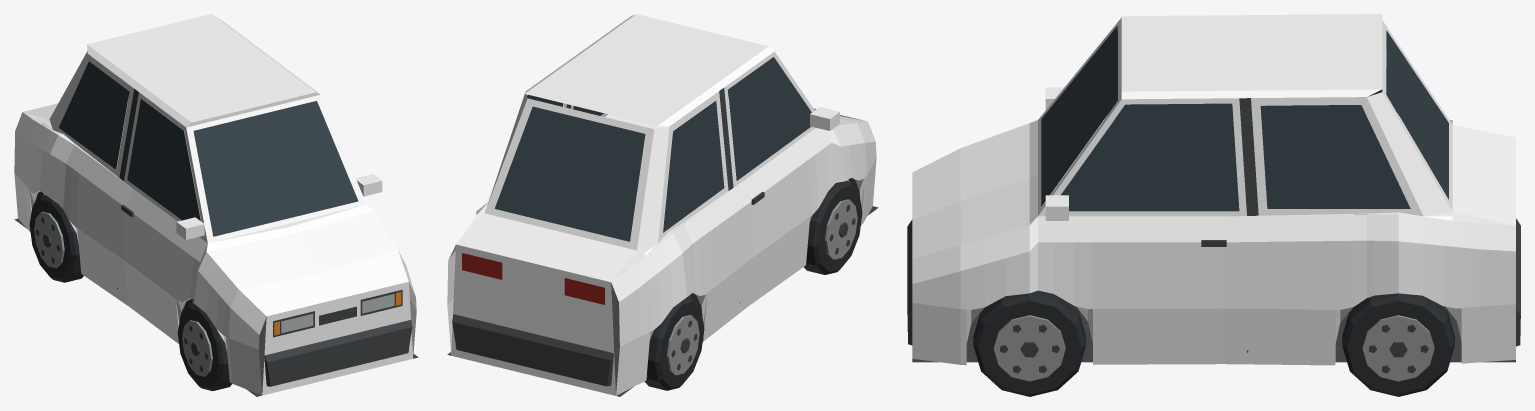
File: tokiwa_unabara.glb
3 views of the same model, side by side, from view 1: azimuth 30°, elevation 25°; view 2: azimuth 150°, elevation 25°; view 3: azimuth 270°, elevation 25° (orthographic). The views are drawn at different scales.
Visible parts, largest first — view 1: tokiwa_unabara; view 2: tokiwa_unabara; view 3: tokiwa_unabara.
Boxes of the visible parts, left/top/right/bottom form: tokiwa_unabara: left=14, top=14, right=418, bottom=396; tokiwa_unabara: left=447, top=14, right=878, bottom=396; tokiwa_unabara: left=907, top=14, right=1520, bottom=396.
Bounding box in the file's own units: 1.46 × 1.65 × 3.16.
Materials: 8 (1 with a texture image).
